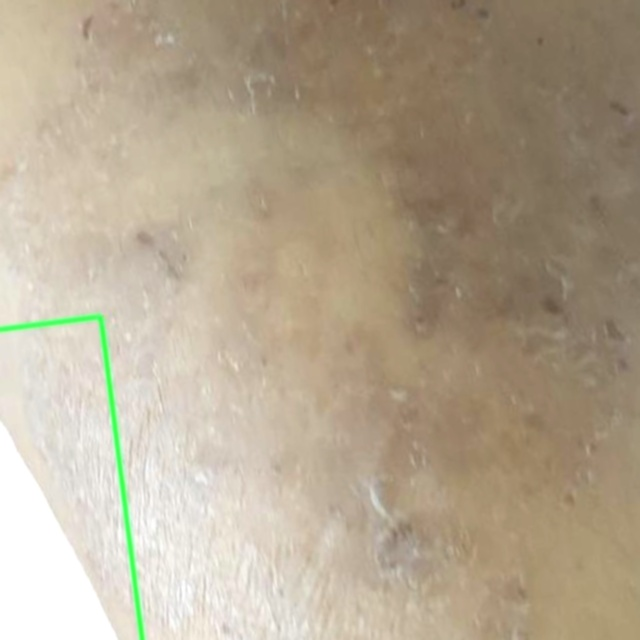Tinea Corporis: (0, 316, 142, 639)
